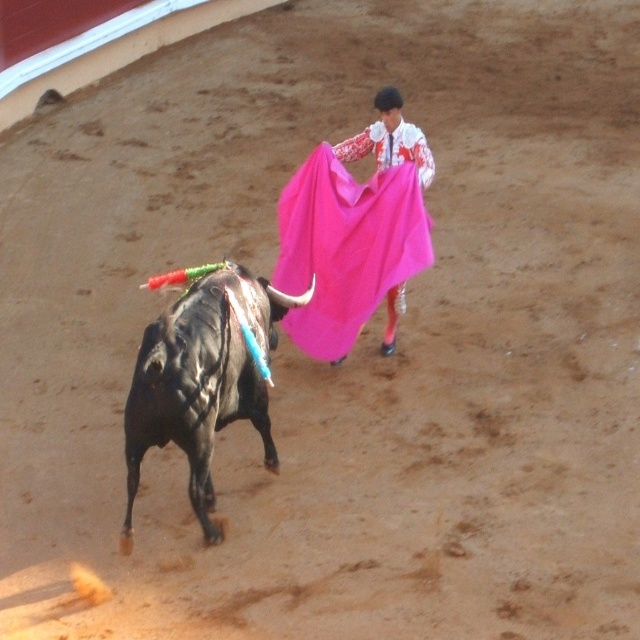Bull: (118, 256, 316, 556)
